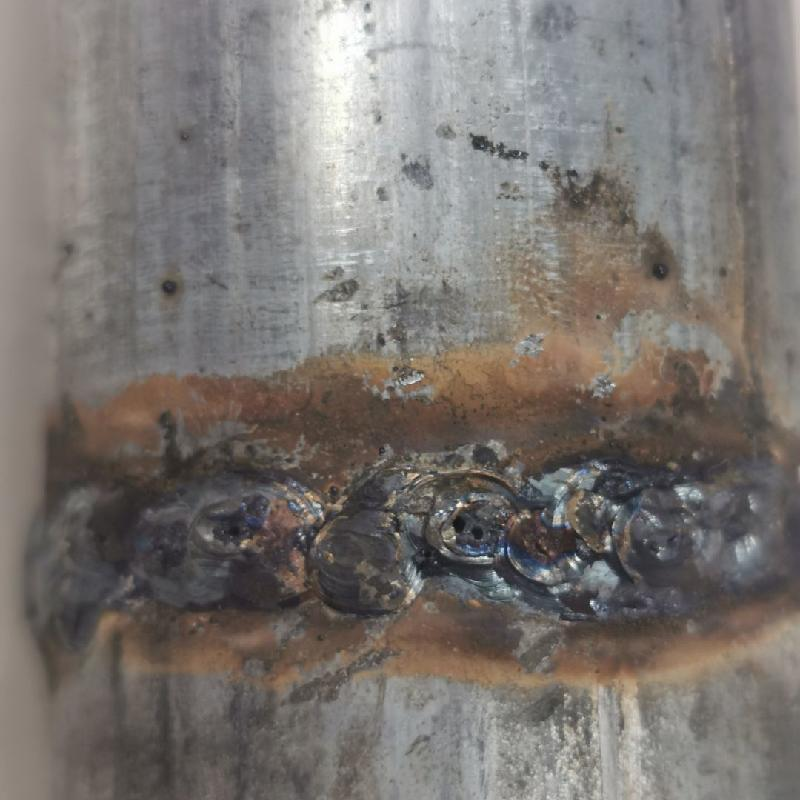Surface_pores: (447, 502, 500, 561), (213, 506, 256, 554)
crater: (417, 480, 709, 615)
